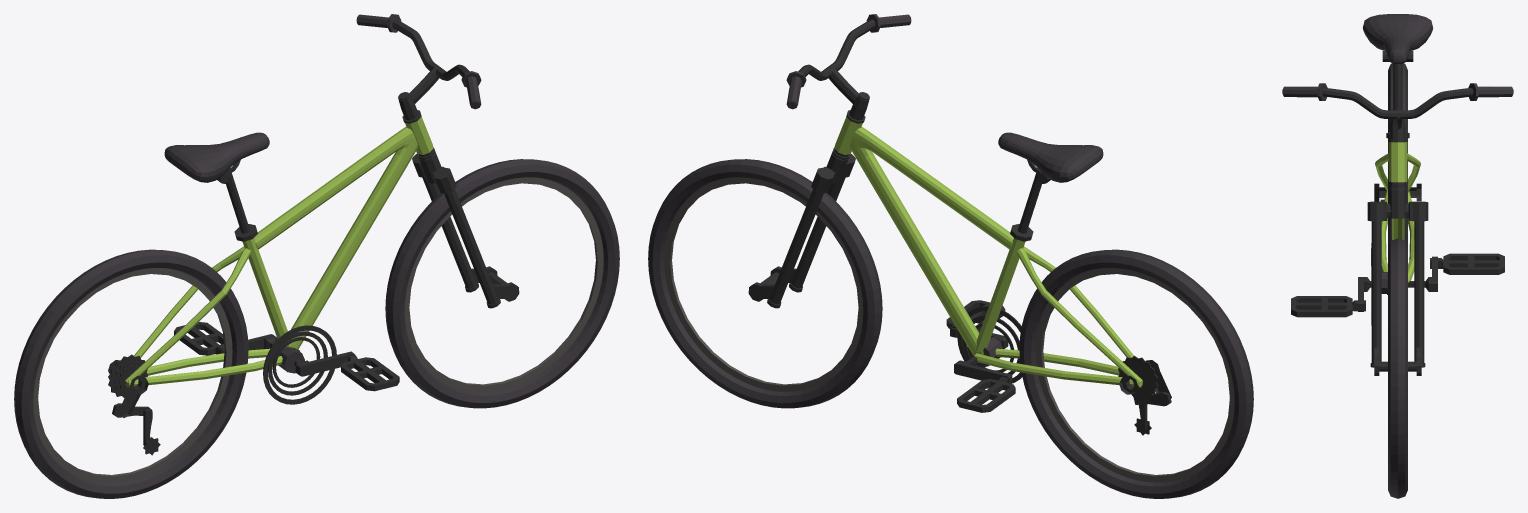
Rendered from velo_-_bicycle.glb.
3 renders of one model, left to right at view 1: azimuth 30°, elevation 25°; view 2: azimuth 150°, elevation 25°; view 3: azimuth 270°, elevation 25°, orthographic. The views are drawn at different scales.
Parts seen in each view (by area): view 1: Plane.002; view 2: Plane.002; view 3: Plane.002.
Part boxes in pixels (<box>): Plane.002: <box>14,14,619,498</box>; Plane.002: <box>648,14,1253,498</box>; Plane.002: <box>1282,14,1513,498</box>.
Size of the model in its own units: 1.8 by 1.08 by 0.613.
